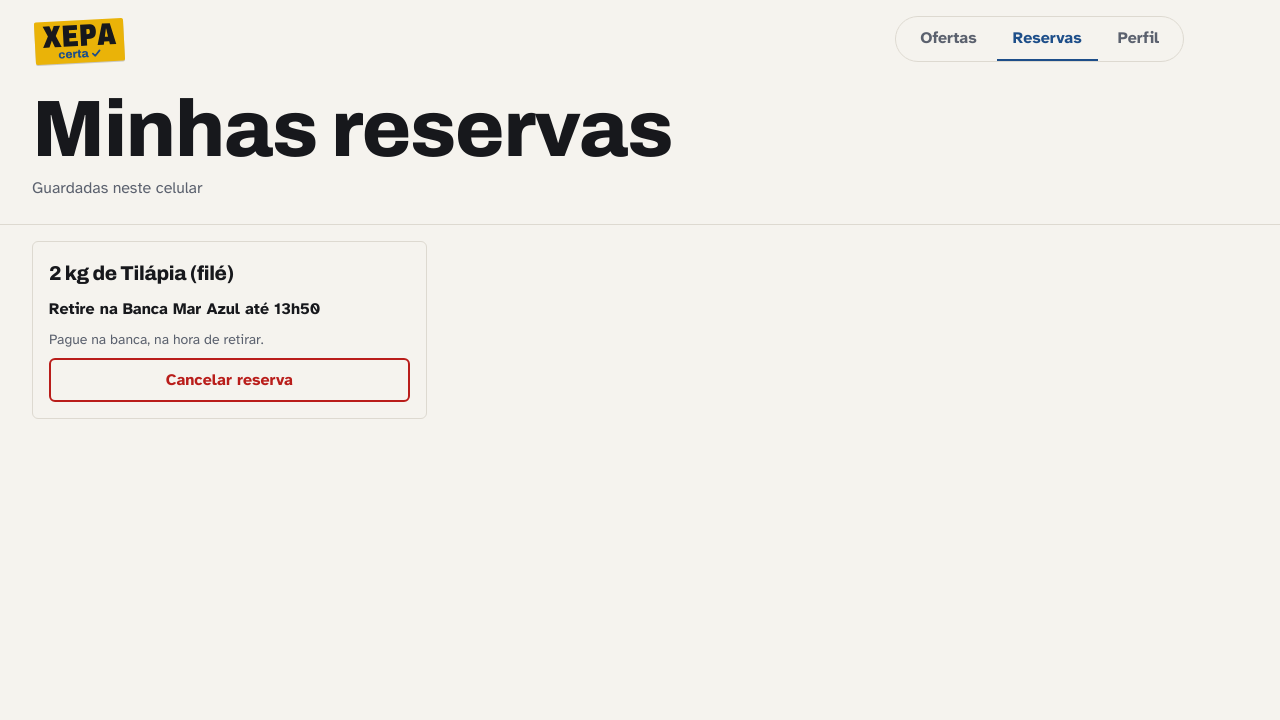
Test: Minhas reservas › cancelar pede confirmação e avisa
Click the button "Cancelar reserva" at (229, 380), box top-left (49, 358), bottom-right (410, 402)
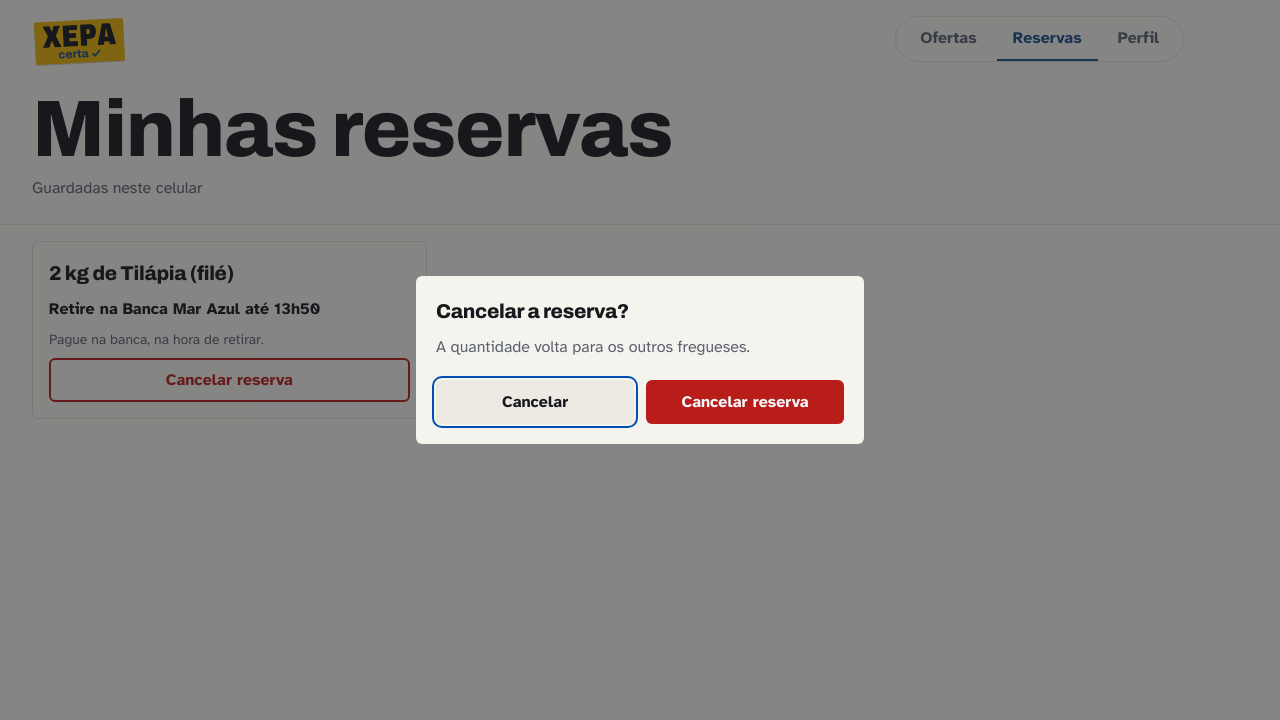
Click the button "Cancelar reserva" at (745, 402), box top-left (646, 380), bottom-right (844, 424)
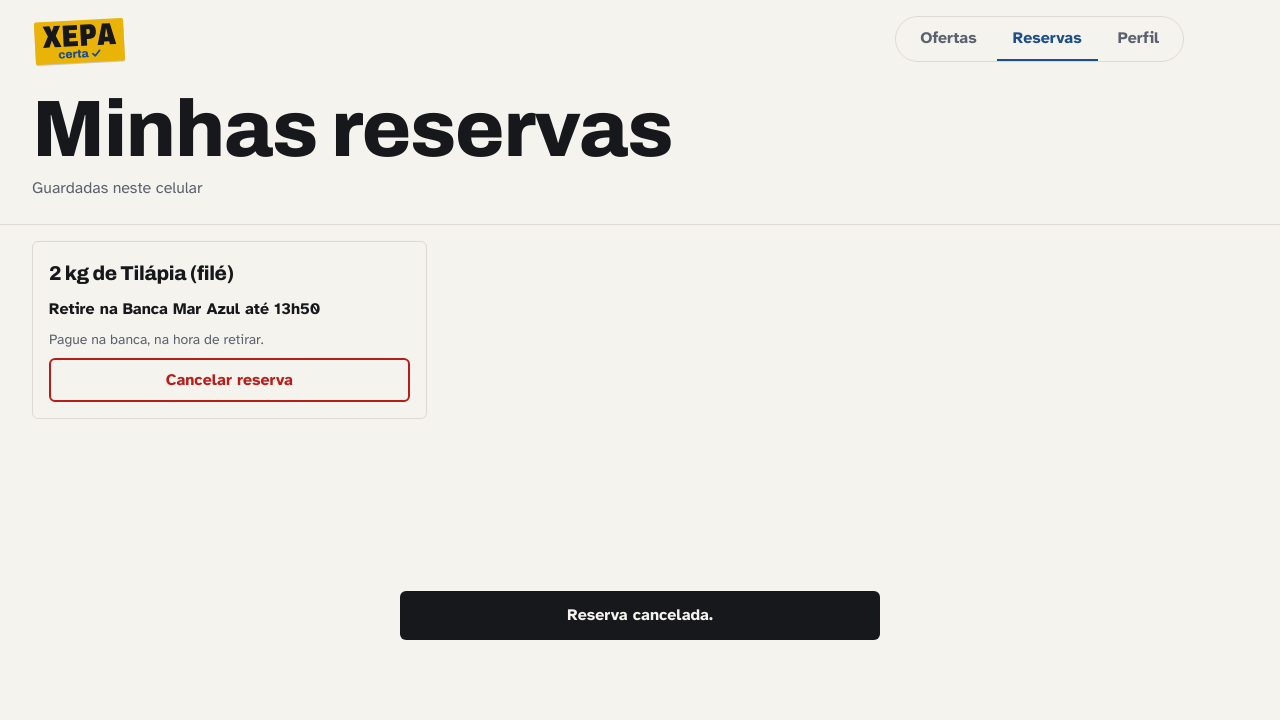
Now the text "Reserva cancelada." is shown, box top-left (400, 591), bottom-right (880, 640)
